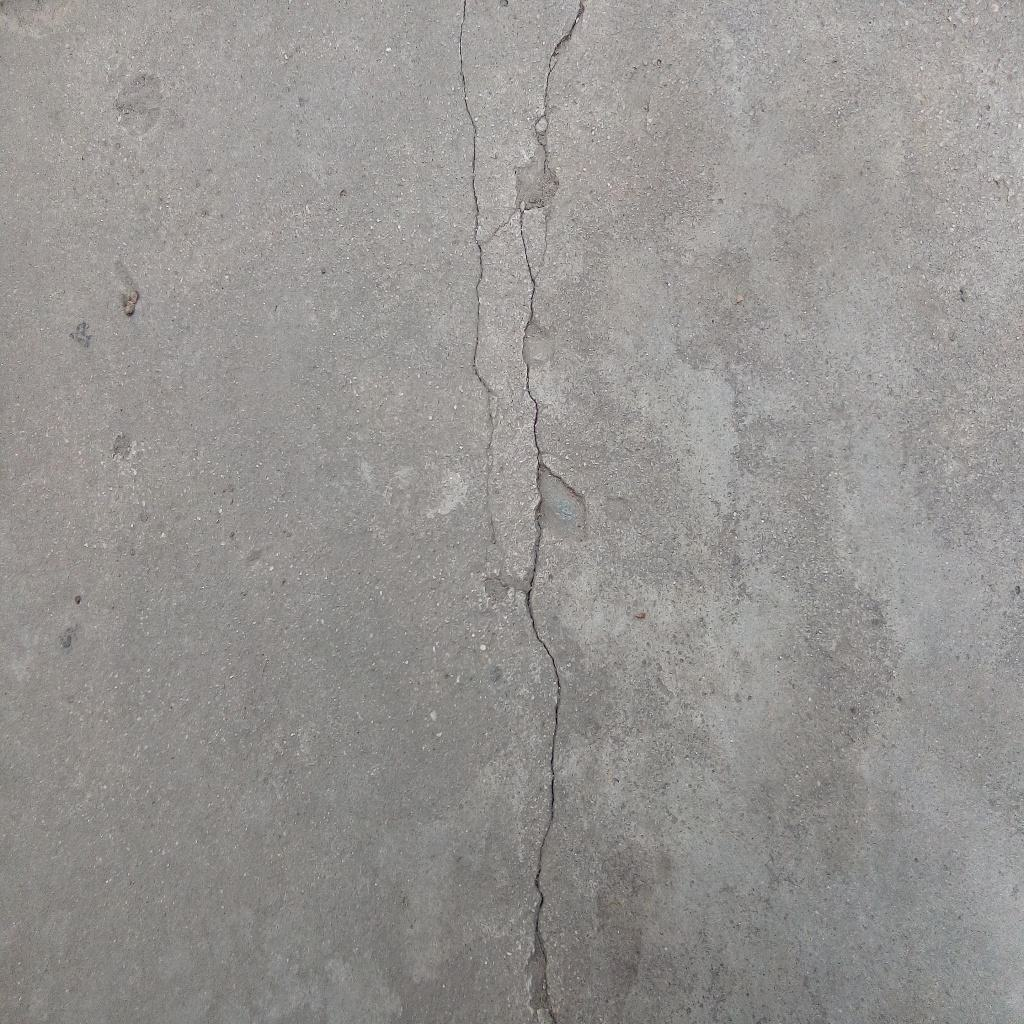Crack: (512, 1, 582, 1024), (458, 1, 496, 547)
Spalling: (512, 116, 560, 212), (533, 461, 587, 543), (521, 318, 556, 371), (481, 573, 506, 604), (603, 496, 628, 520)
